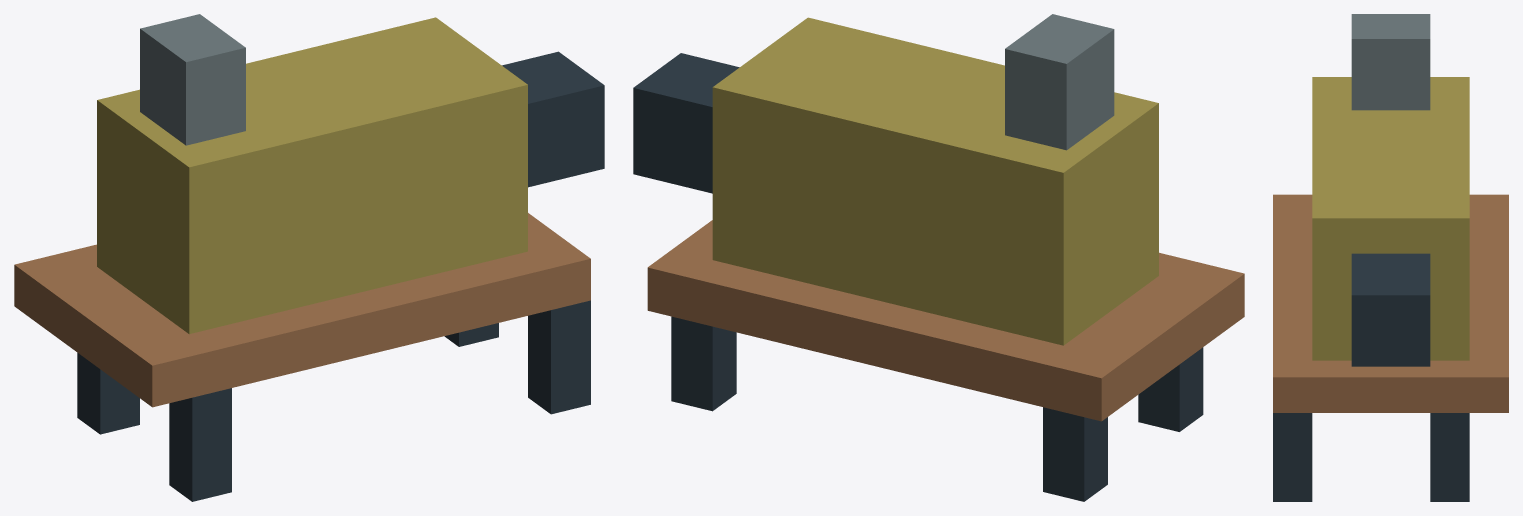
File: energy-07.glb
The picture shows the model from 3 angles, left to right: view 1: azimuth 30°, elevation 25°; view 2: azimuth 150°, elevation 25°; view 3: azimuth 270°, elevation 25°; orthographic projection. The views are drawn at different scales.
Visible parts, largest first — view 1: Generator; view 2: Generator; view 3: Generator.
Boxes of the visible parts, bbox=[...] form: Generator: bbox=[14, 14, 604, 501]; Generator: bbox=[633, 14, 1244, 501]; Generator: bbox=[1273, 14, 1508, 501].
Size of the model in its own units: 2 by 1.52 by 0.96.
